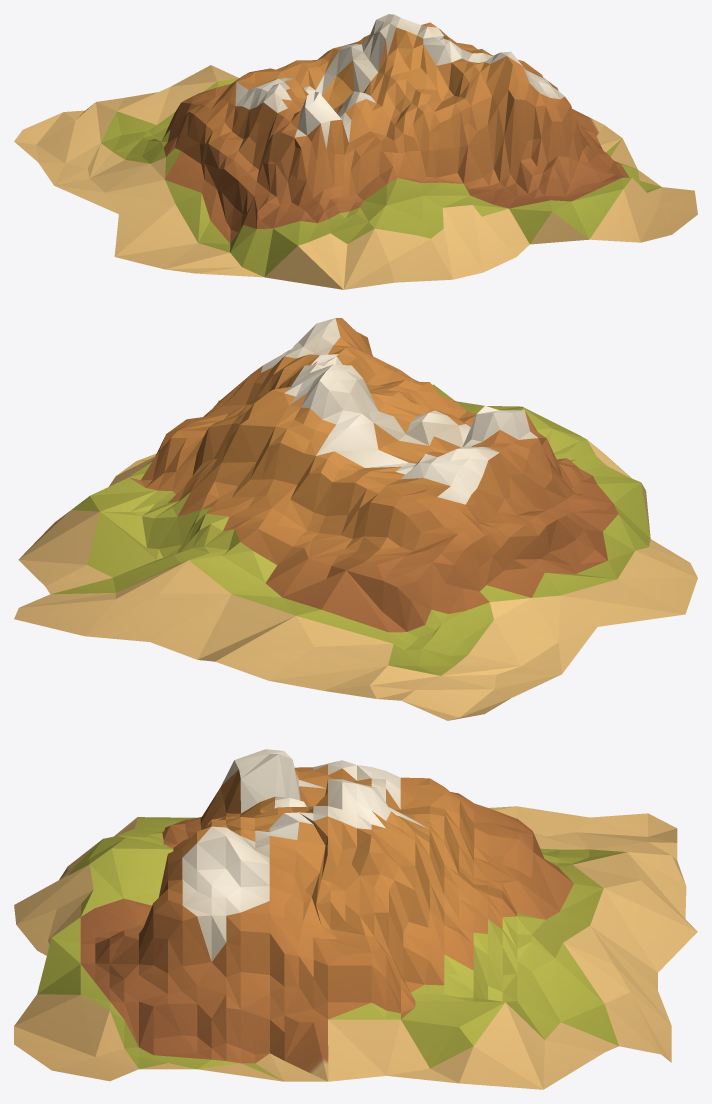
The model's file is Volcano.fbx.
The picture shows the model from 3 angles, top to bottom: view 1: azimuth 30°, elevation 25°; view 2: azimuth 150°, elevation 25°; view 3: azimuth 270°, elevation 25°; orthographic projection. The views are drawn at different scales.
Visible parts, largest first — view 1: IslandAboveVolcano:TerrainMesh; view 2: IslandAboveVolcano:TerrainMesh; view 3: IslandAboveVolcano:TerrainMesh.
Part boxes in pixels (x1=…): IslandAboveVolcano:TerrainMesh: x1=14, y1=14, x2=697, y2=289; IslandAboveVolcano:TerrainMesh: x1=14, y1=318, x2=697, y2=720; IslandAboveVolcano:TerrainMesh: x1=14, y1=749, x2=697, y2=1089.
Bounding box in the file's own units: 13.02 × 4.08 × 12.84.
1 material, 1 textured.
